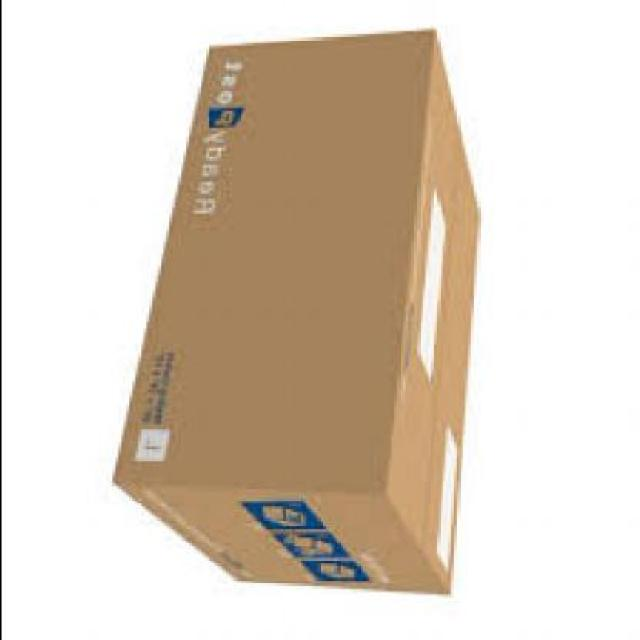CARDBOARD: (117, 31, 480, 598)
